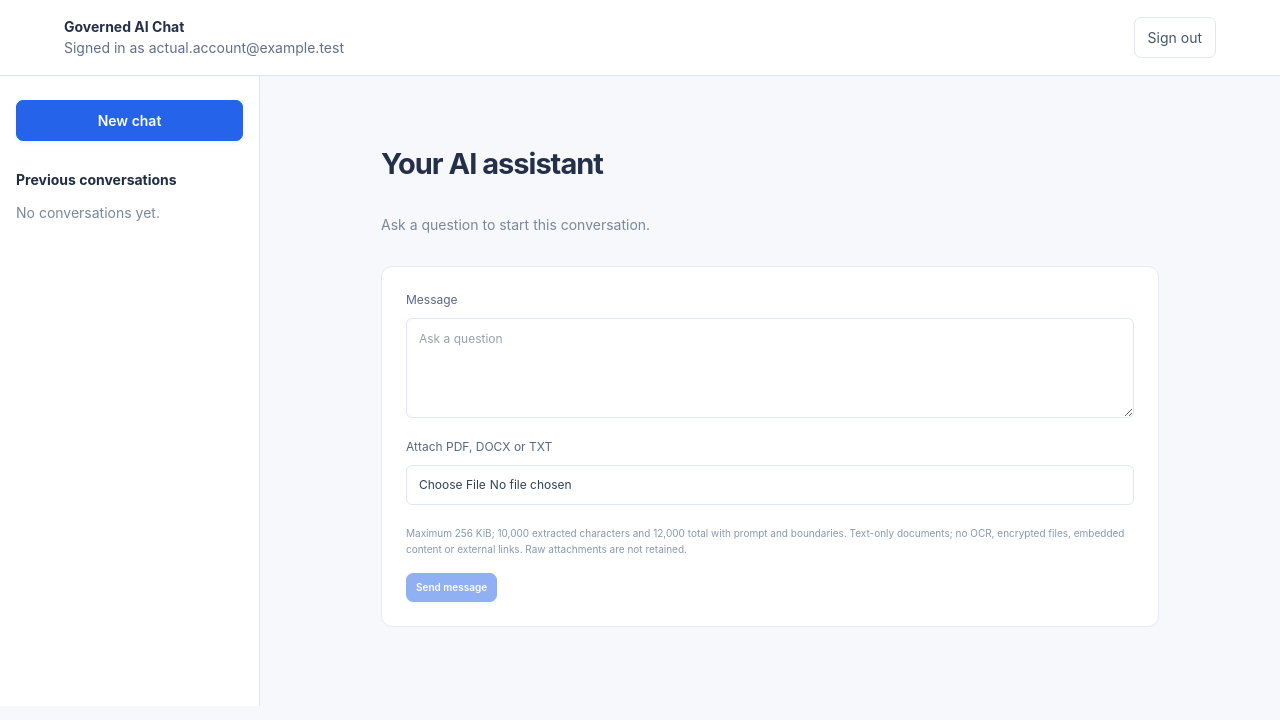
Test: shows a simple REDACT conversation without technical cards or IDs
(page scrolled)
expect the text "No conversations yet." is shown: met, box [16,204,160,221]
Type "Sensitive test prompt" into the text box labelled "Message" at coordinates (770, 368), box [406,318,1134,418]
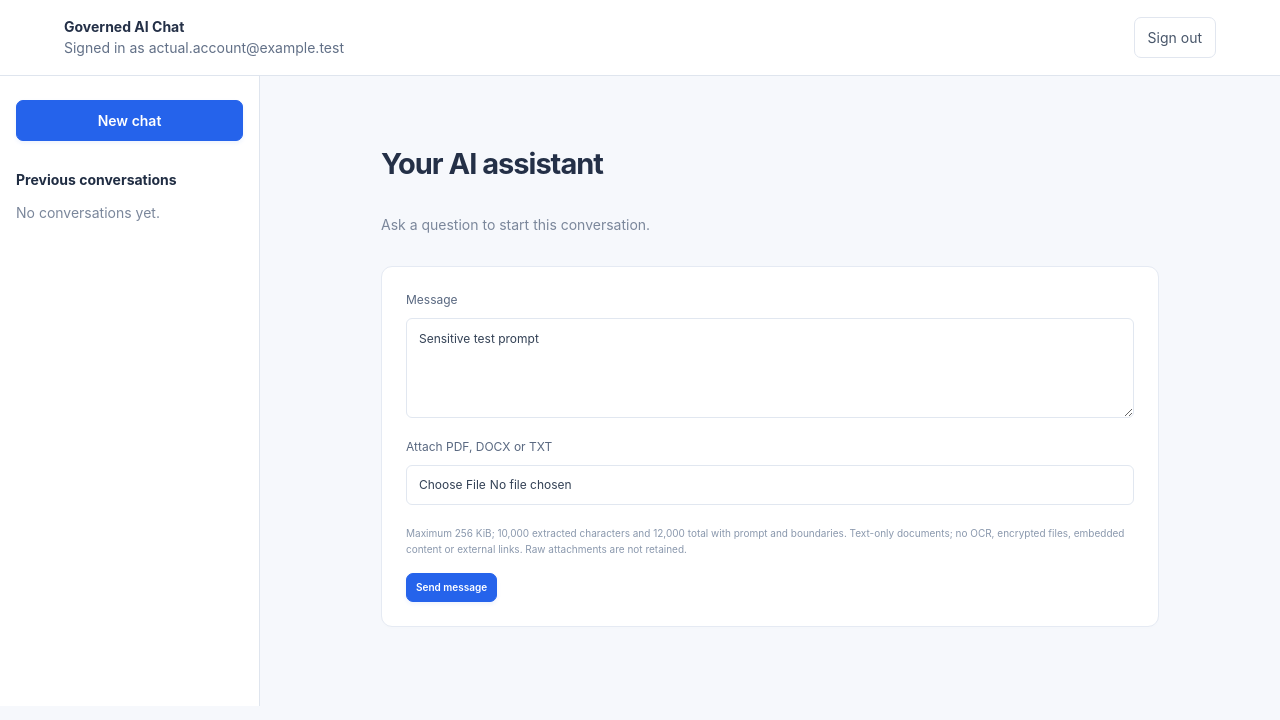
Click the button "Send message" at coordinates (452, 588), box [406,573,497,602]
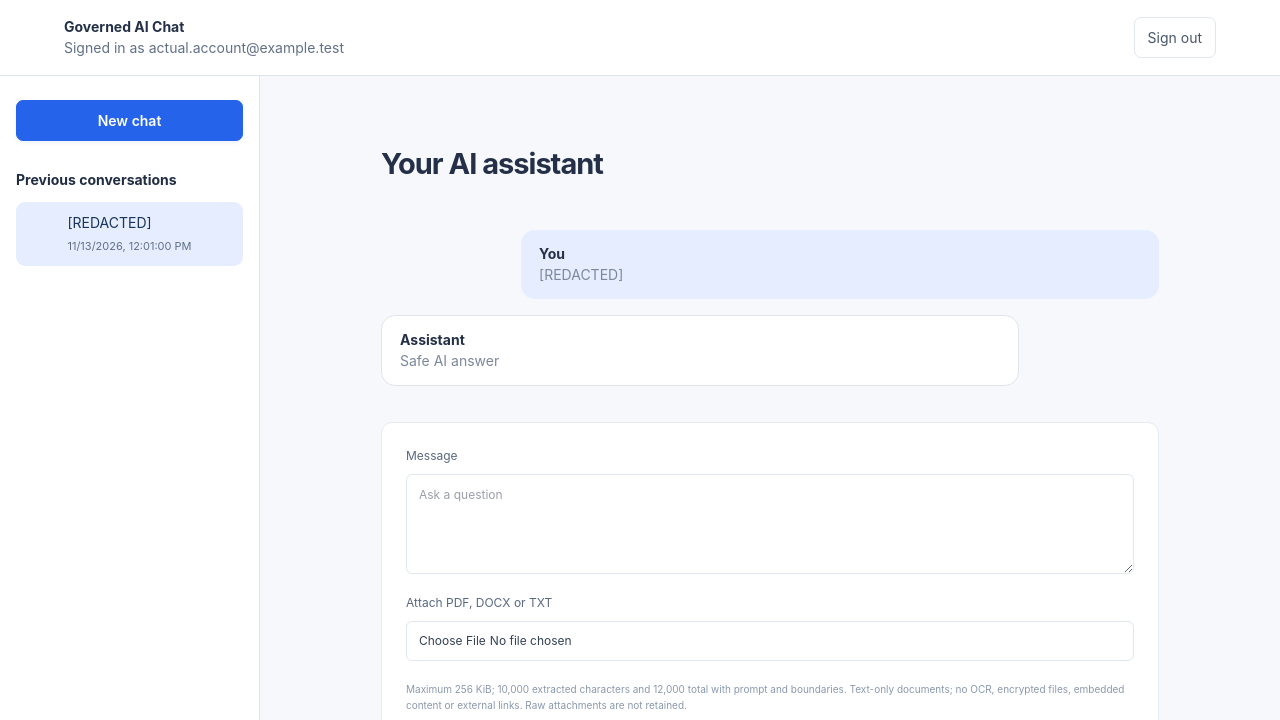
expect the text "Sensitive test prompt" is not shown: met
expect the text "Safe AI answer" is shown: met, box [400,352,499,369]
